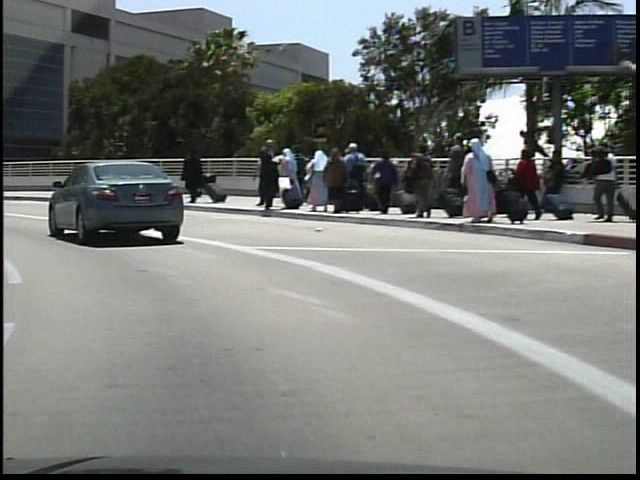person: (579, 137, 615, 224), (251, 136, 278, 212), (249, 144, 274, 211), (180, 146, 202, 201), (188, 153, 208, 198)
